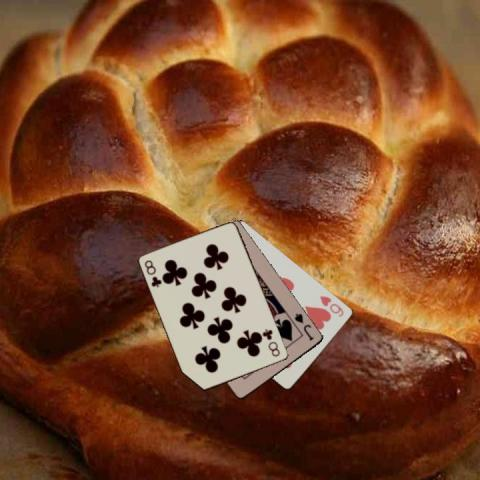6h: (318, 293, 346, 318)
8c: (142, 257, 163, 289), (261, 326, 281, 358)
Js: (292, 310, 316, 342)
